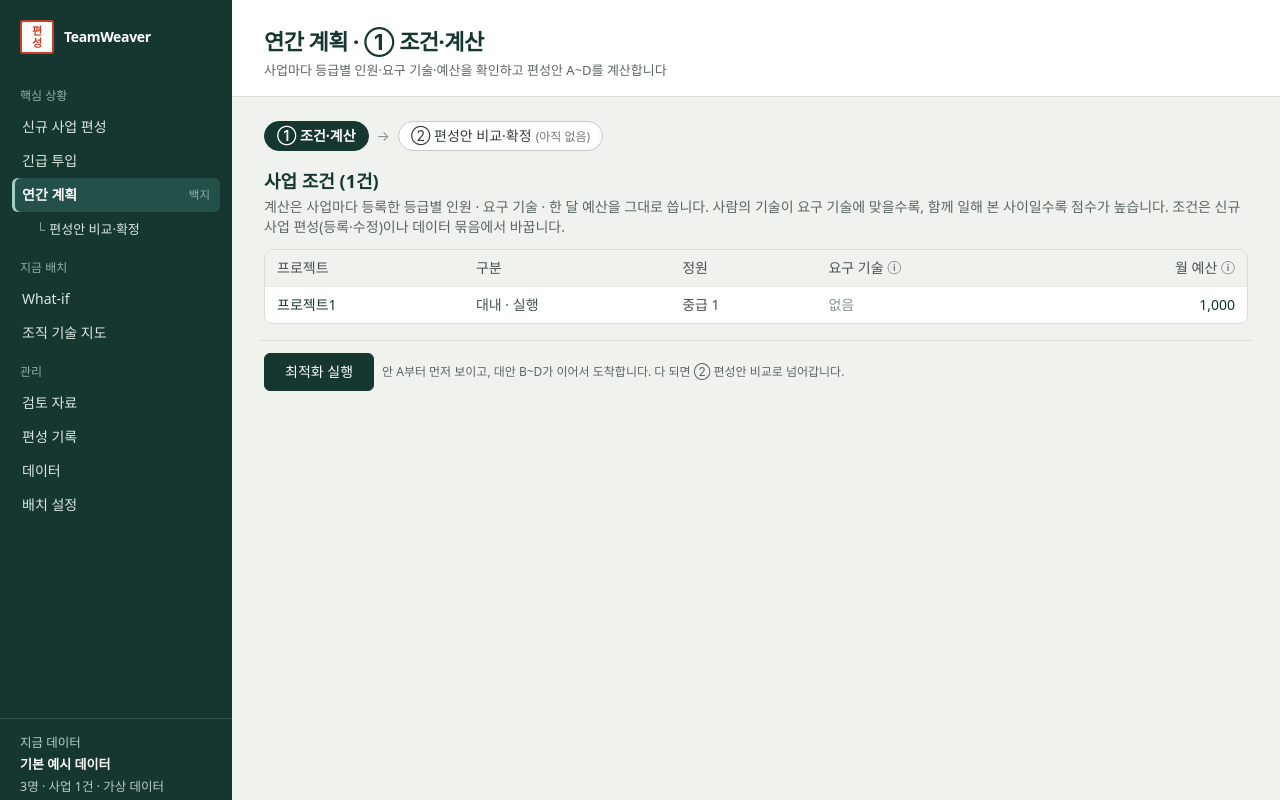
Test: App — 다른 사용자가 데이터셋을 바꾼 경우(K9 리뷰 반영) › 409(dataset_changed)를 받으면 새 데이터로 다시 불러오고 알린다
Click the button "최적화 실행" at [319, 372], box [264,353,374,391]
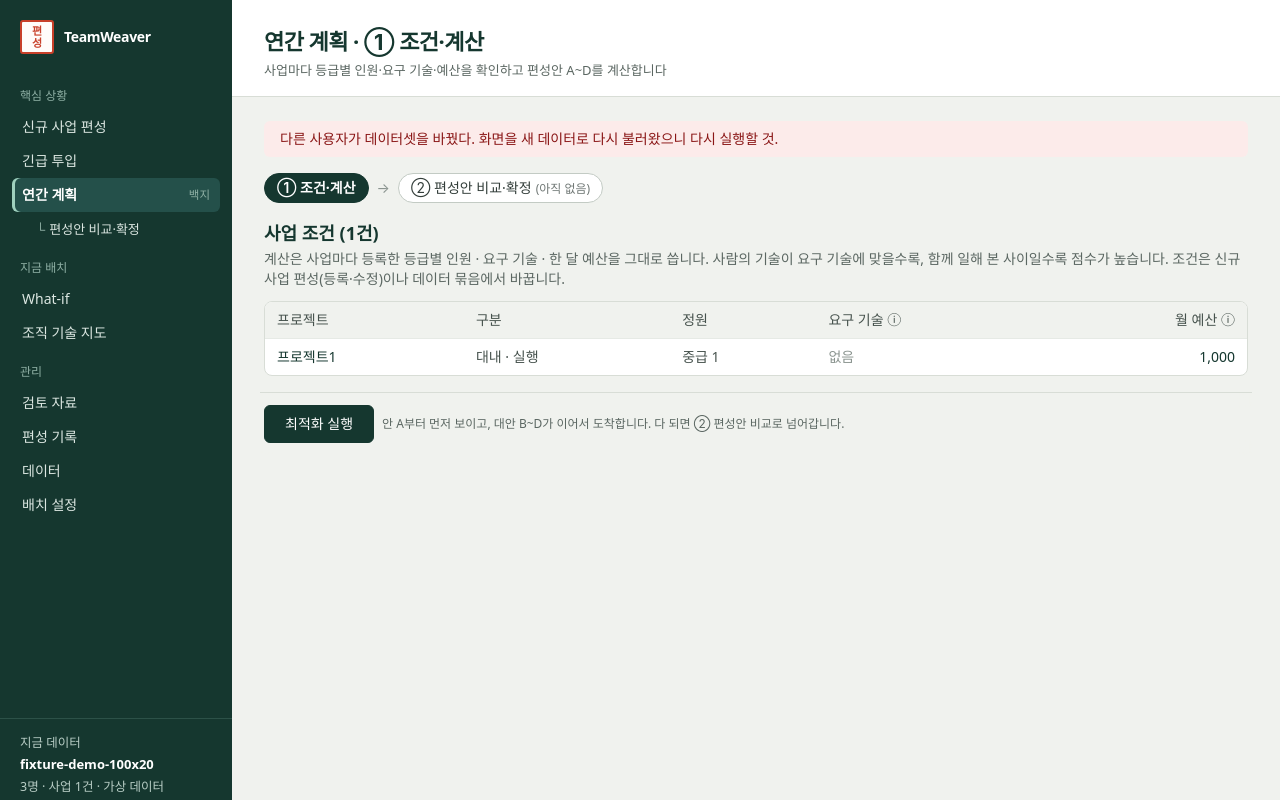
expect the text "다른 사용자가 데이터셋을 바꿨다. 화면을 새 데이터로 다시 불러왔으니 다시 실행할 것." is shown: met, box [264,121,1248,157]
